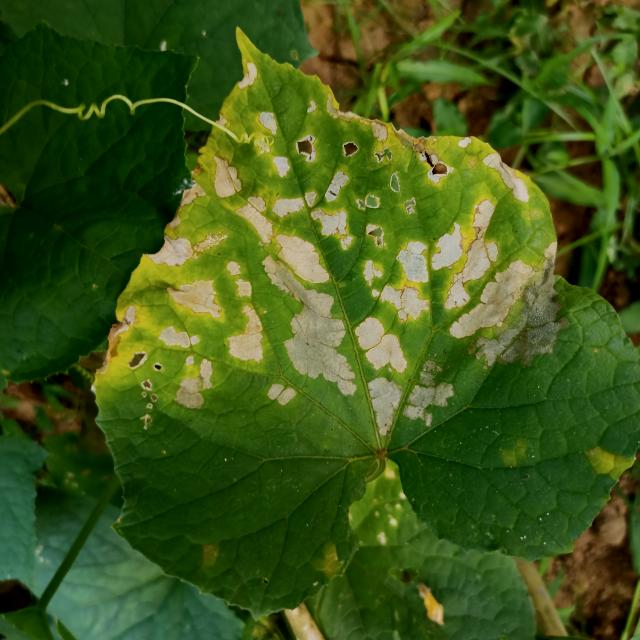disease_cucumber: (115, 72, 584, 431), (574, 437, 636, 488)
